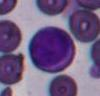L: (29, 25, 76, 73)
